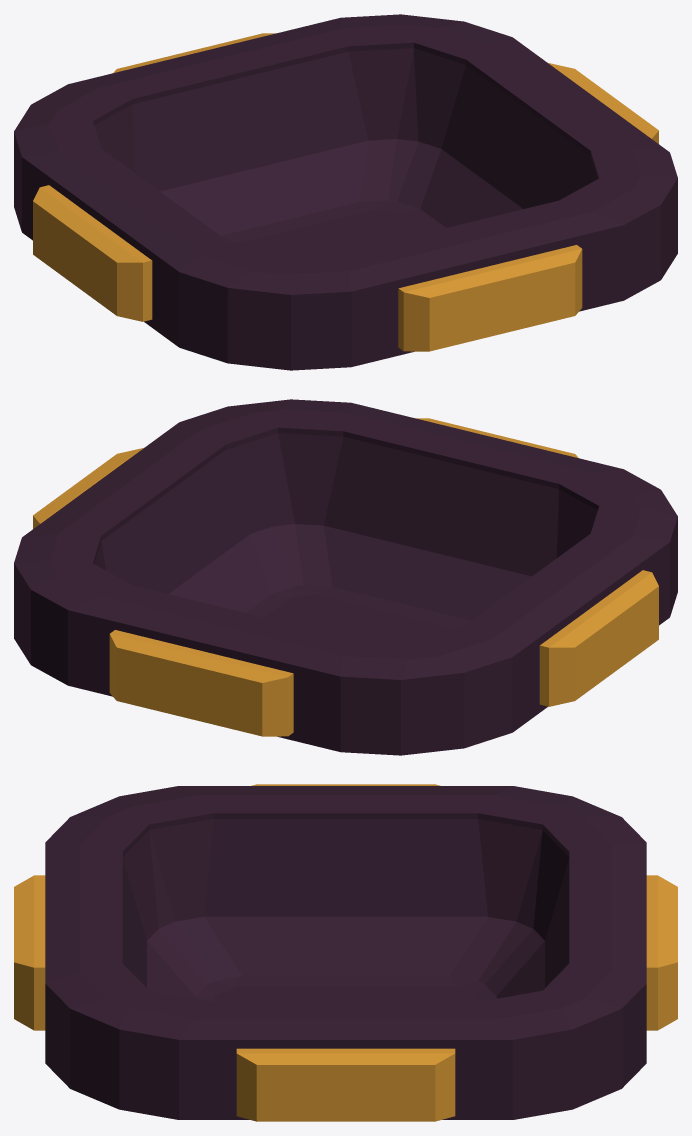
The model's file is plataforma.fbx.
3 renders of one model, top to bottom at view 1: azimuth 30°, elevation 25°; view 2: azimuth 150°, elevation 25°; view 3: azimuth 270°, elevation 25°, orthographic. The views are drawn at different scales.
Parts seen in each view (by area): view 1: PlataformaBorde; view 2: PlataformaBorde; view 3: PlataformaBorde.
Boxes of the visible parts, bbox=[...] form: PlataformaBorde: bbox=[14, 14, 677, 370]; PlataformaBorde: bbox=[14, 399, 677, 755]; PlataformaBorde: bbox=[14, 784, 677, 1121].
Size of the model in its own units: 331 by 74.27 by 331.
Materials: 1 (1 with a texture image).
